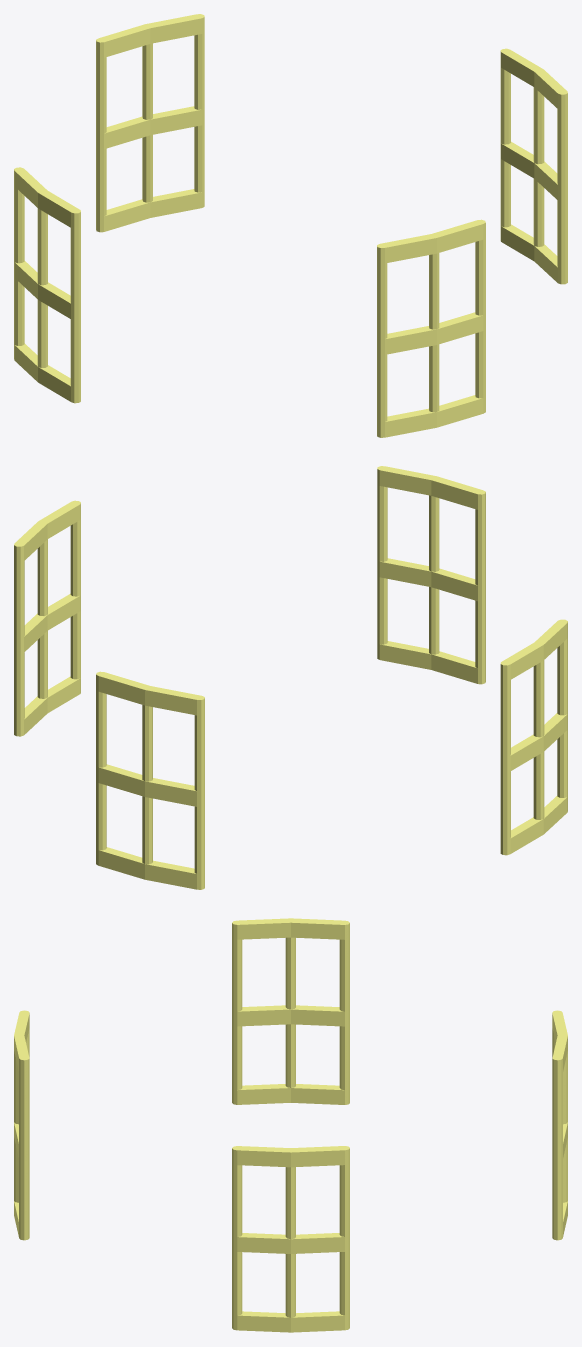
The model's file is CageDoors.fbx.
3 renders of one model, top to bottom at view 1: azimuth 30°, elevation 25°; view 2: azimuth 150°, elevation 25°; view 3: azimuth 270°, elevation 25°, orthographic. The views are drawn at different scales.
Visible parts, largest first — view 1: CageDoors; view 2: CageDoors; view 3: CageDoors.
Part boxes in pixels (x1,y1,x2,y2): CageDoors: (14,14,567,437); CageDoors: (14,466,567,889); CageDoors: (14,918,567,1332).
Bounding box in the file's own units: 2863 × 2863 × 1027.
Materials: 1 (1 with a texture image).
